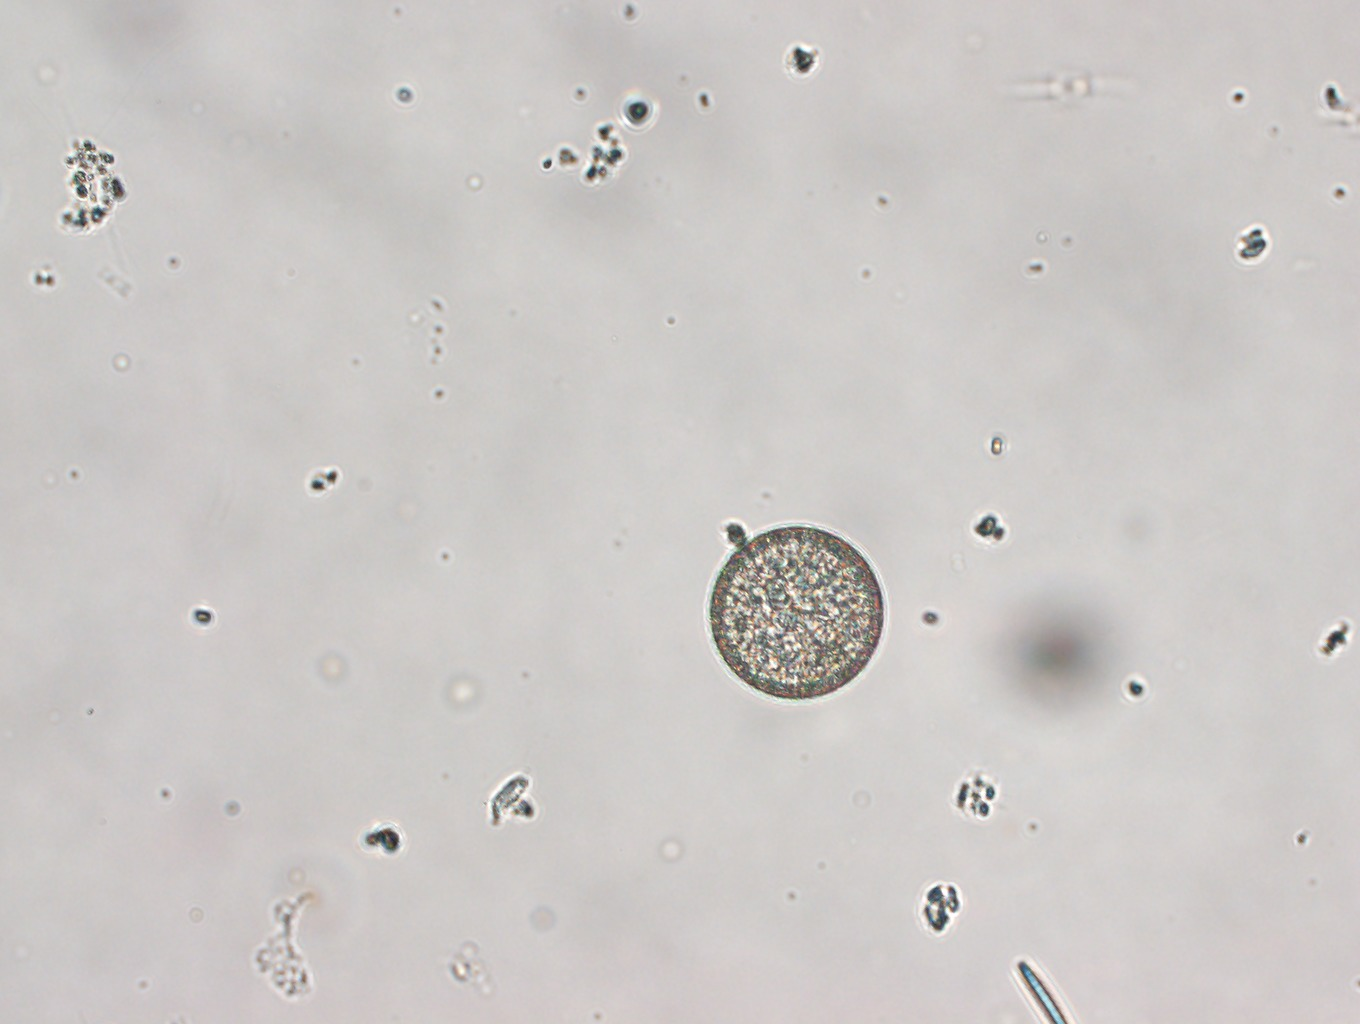coscinodiscus: (700, 514, 892, 705)
